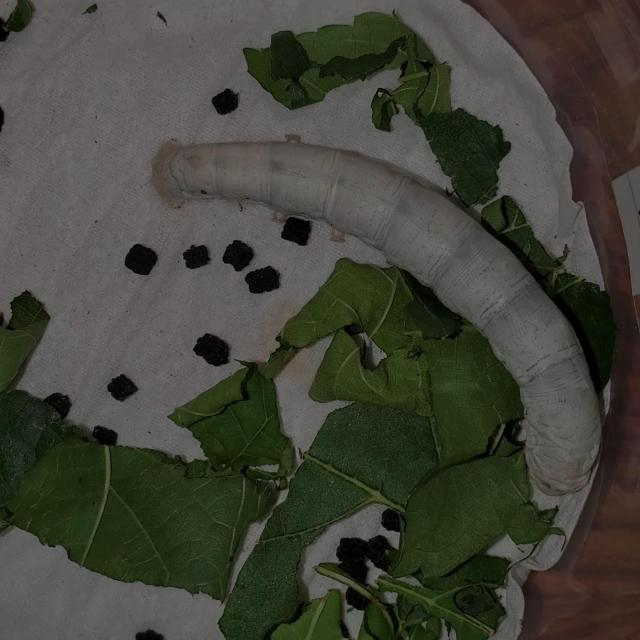Healthy: (144, 125, 609, 508)
